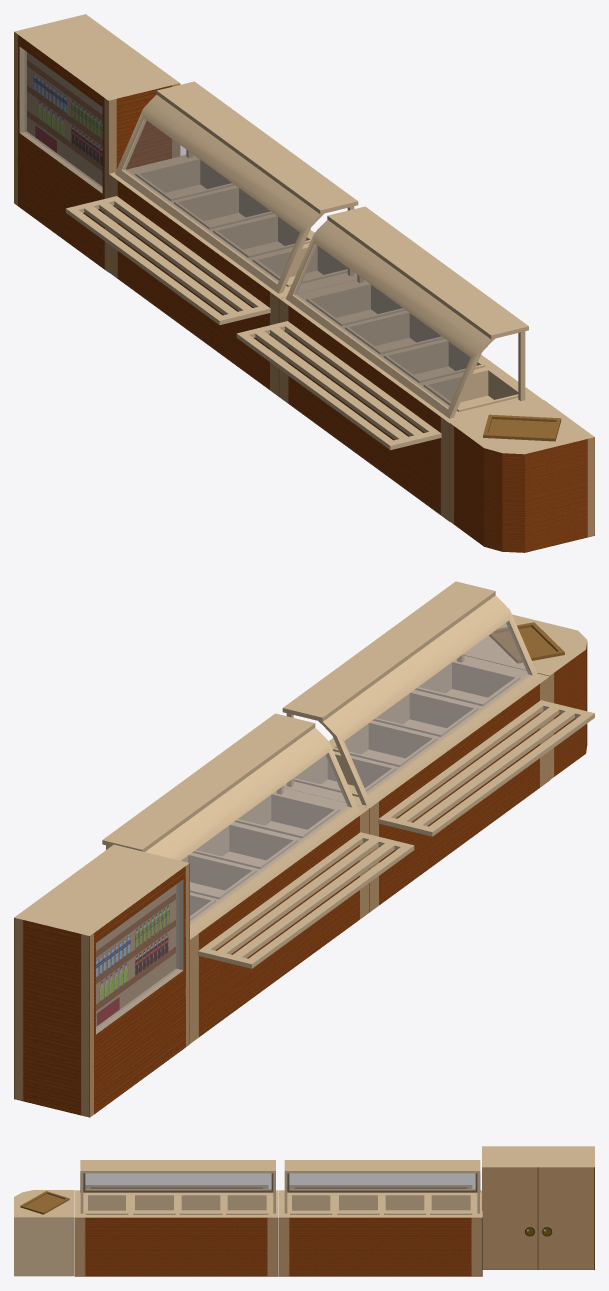
File: Food cabinet V2.fbx
3 renders of one model, top to bottom at view 1: azimuth 30°, elevation 25°; view 2: azimuth 150°, elevation 25°; view 3: azimuth 270°, elevation 25°, orthographic. The views are drawn at different scales.
Parts seen in each view (by area): view 1: Food_Section; view 2: Food_Section; view 3: Food_Section.
Part boxes in pixels (bbox=[...]): Food_Section: bbox=[14, 14, 594, 552]; Food_Section: bbox=[14, 581, 594, 1117]; Food_Section: bbox=[14, 1146, 594, 1276].
Bounding box in the file's own units: 128 × 144 × 739.
Materials: 7 (4 with a texture image).
